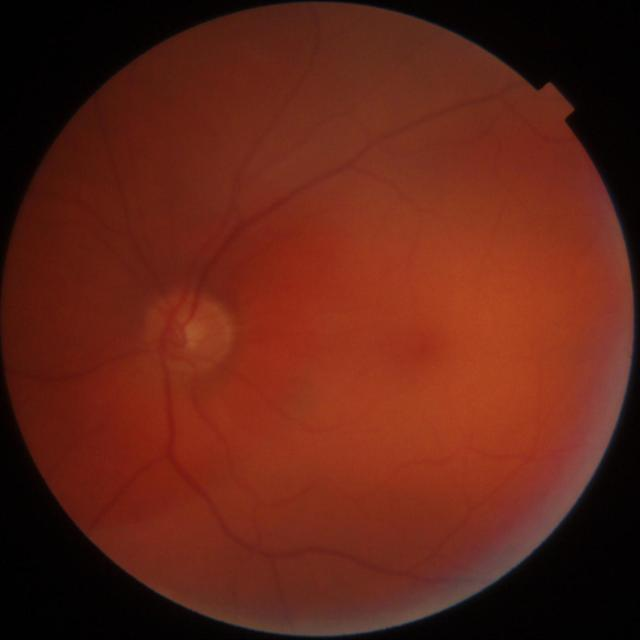OC: (182, 320, 207, 348)
OD: (148, 297, 231, 375)
